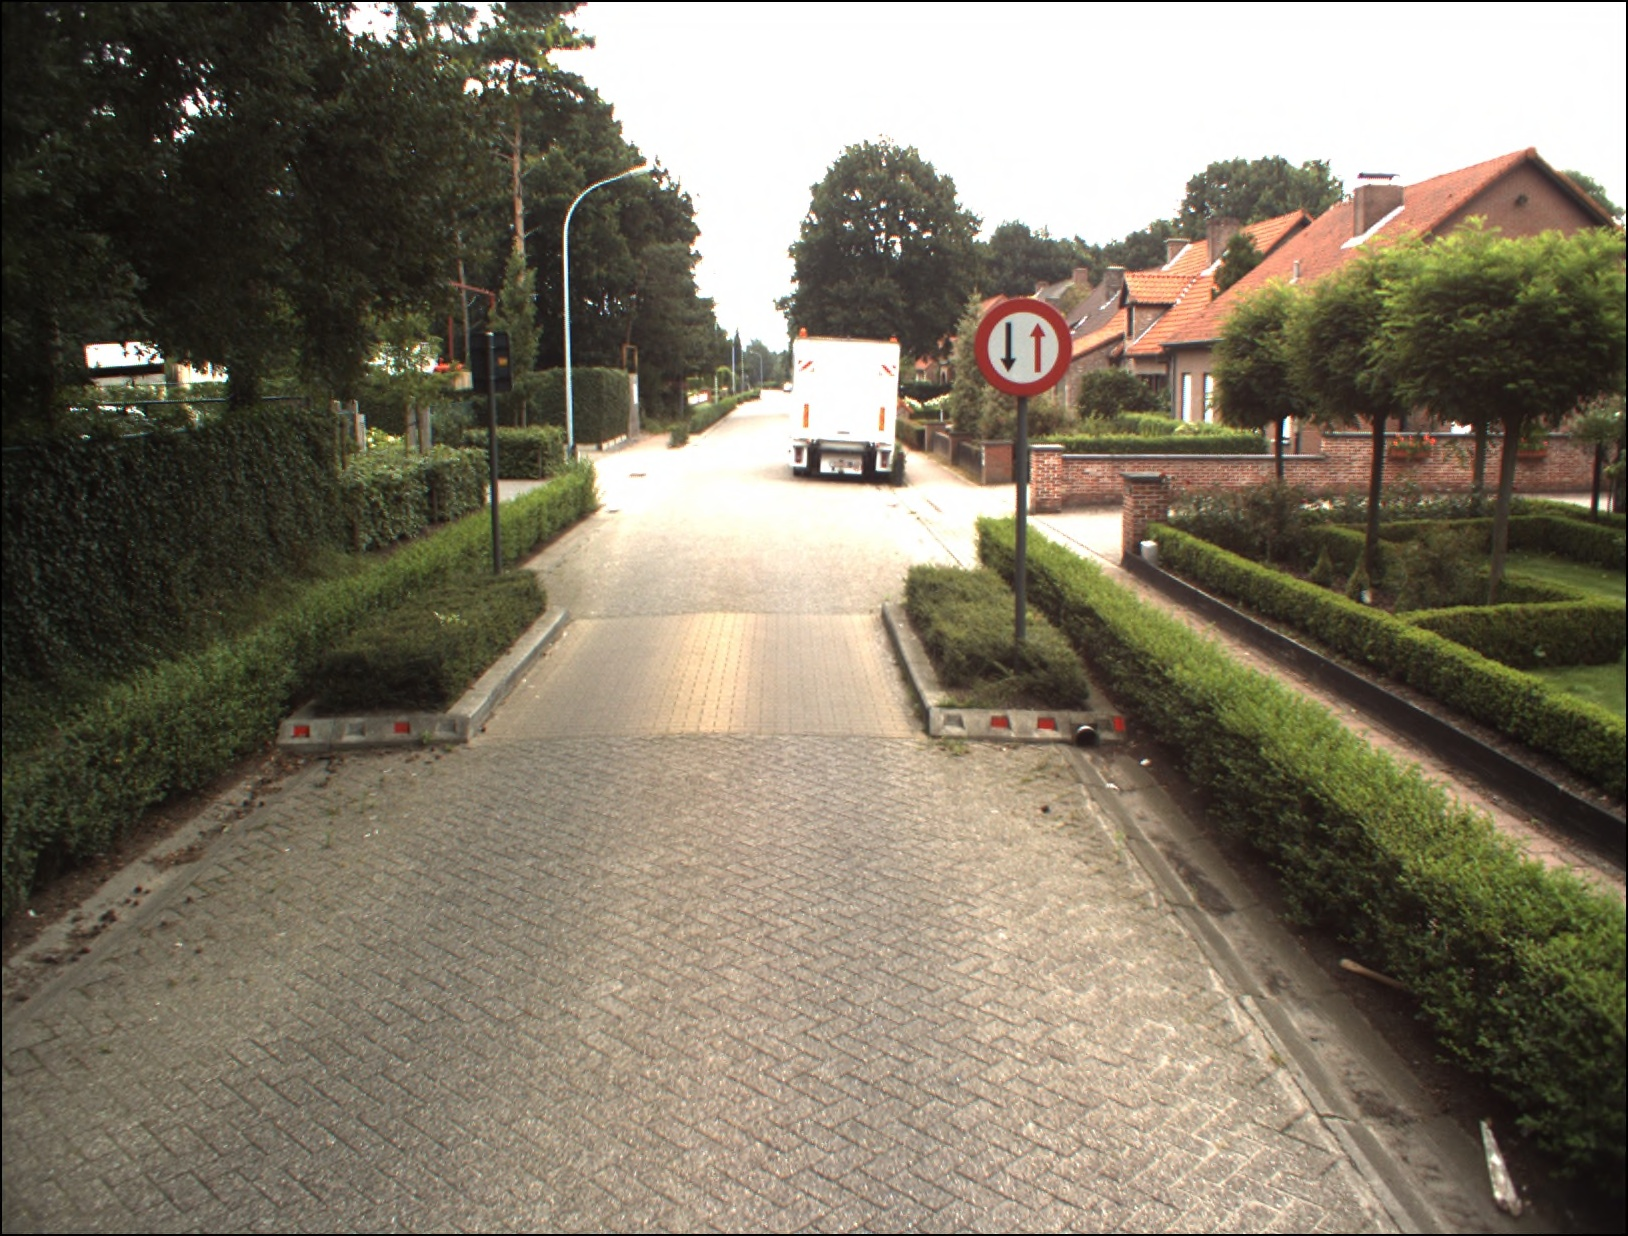roadnarrow2: (981, 299, 1065, 392)
